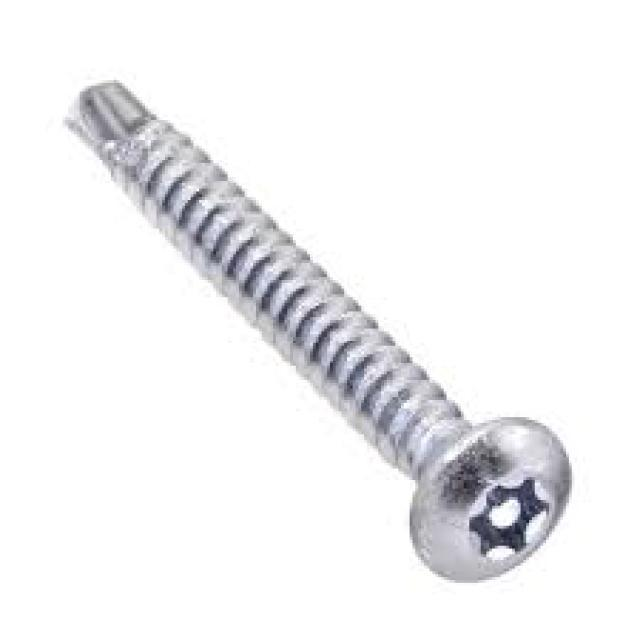torx: (410, 414, 573, 583)
